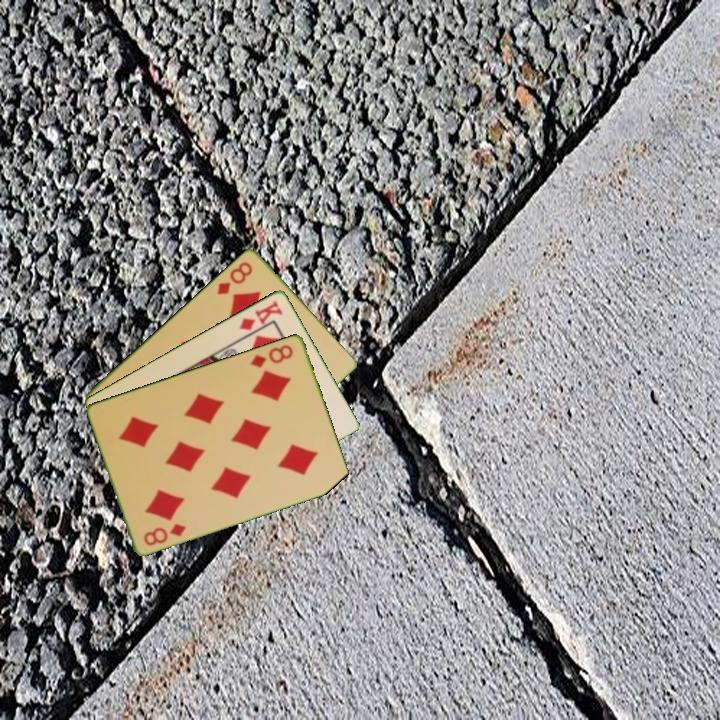8d: (213, 258, 256, 297), (247, 341, 296, 370), (140, 520, 189, 548)
Kd: (236, 296, 286, 333)
